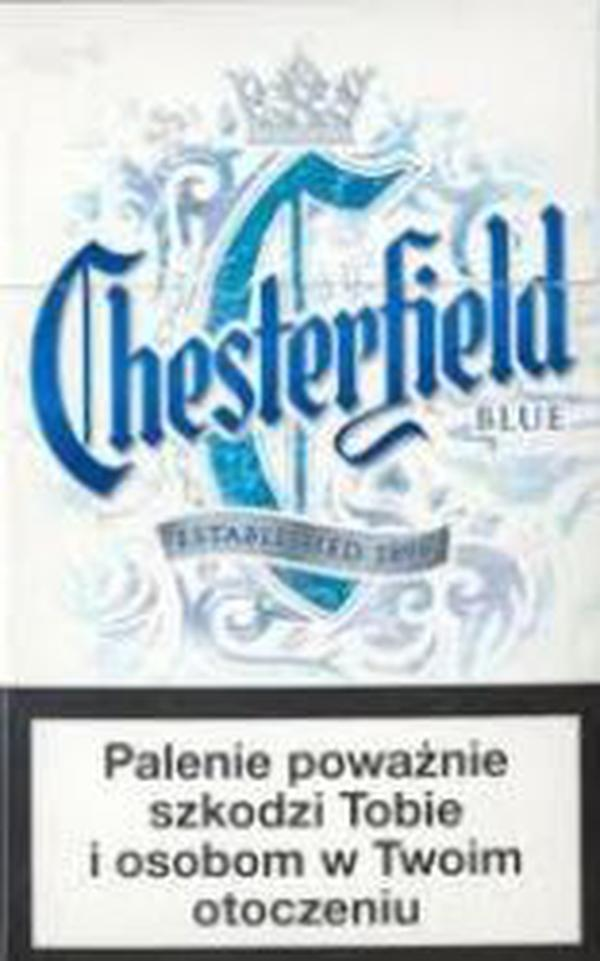chesterfield_blue: (3, 8, 595, 960)
